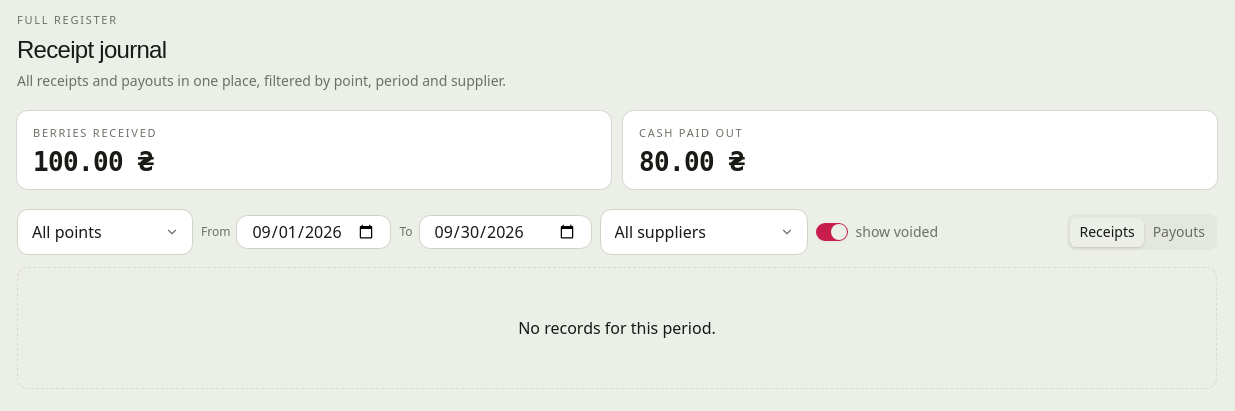
Test case: JournalPage — switching kind › keeps the same tiles on both tabs and reads both lists over one range
Click the tab "Payouts".
click(1179, 232)  # box x1=1144 y1=218 x2=1214 y2=246
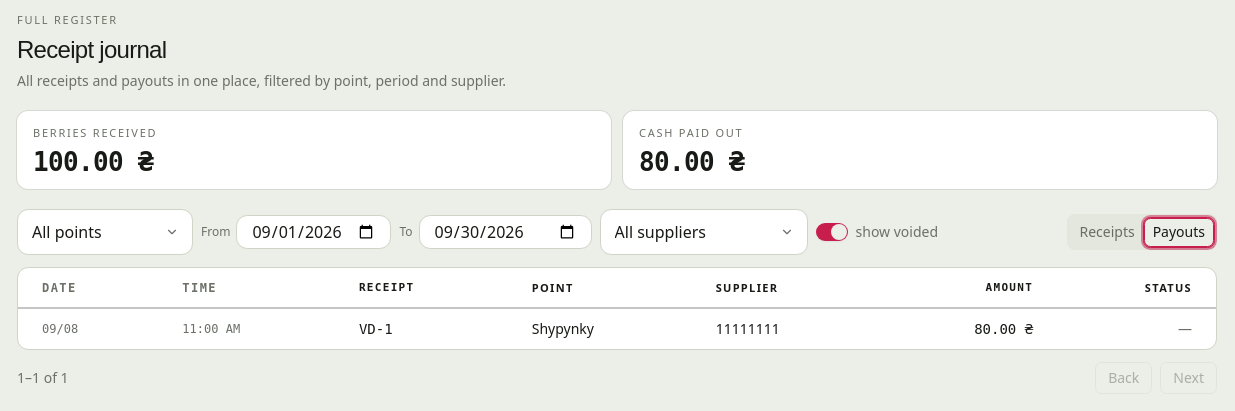
expect the text "Berries received" shows "100.00 ₴": met, box x1=33 y1=147 x2=153 y2=177
expect the text "VD-1" is shown: met, box x1=335 y1=308 x2=508 y2=349
